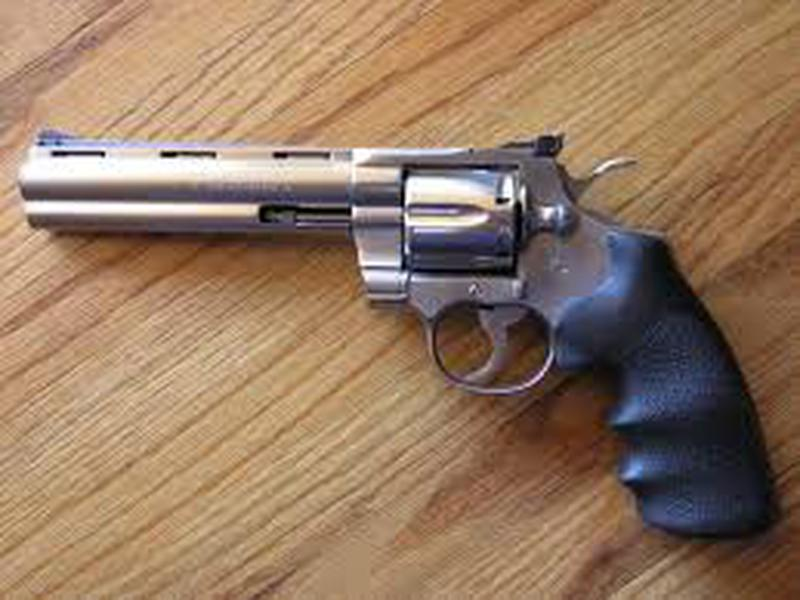Revolver: (19, 100, 765, 459)
